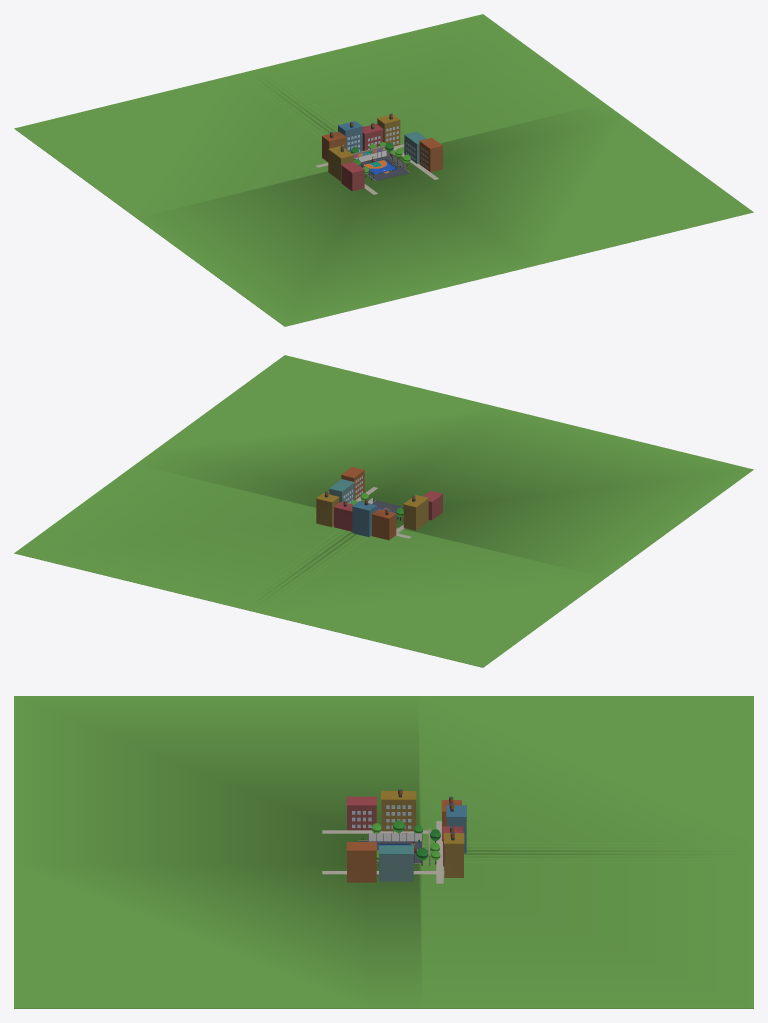
The model's file is arena-fh876OgQ.glb.
3 renders of one model, top to bottom at view 1: azimuth 30°, elevation 25°; view 2: azimuth 150°, elevation 25°; view 3: azimuth 270°, elevation 25°, orthographic. The views are drawn at different scales.
Parts seen in each view (by area): view 1: arena; view 2: arena; view 3: arena.
Boxes of the visible parts, x1,y1,x2,y2 form: arena: [14, 14, 753, 326]; arena: [14, 355, 753, 667]; arena: [14, 696, 753, 1008].
Size of the model in its own units: 300 by 19.8 by 300.
